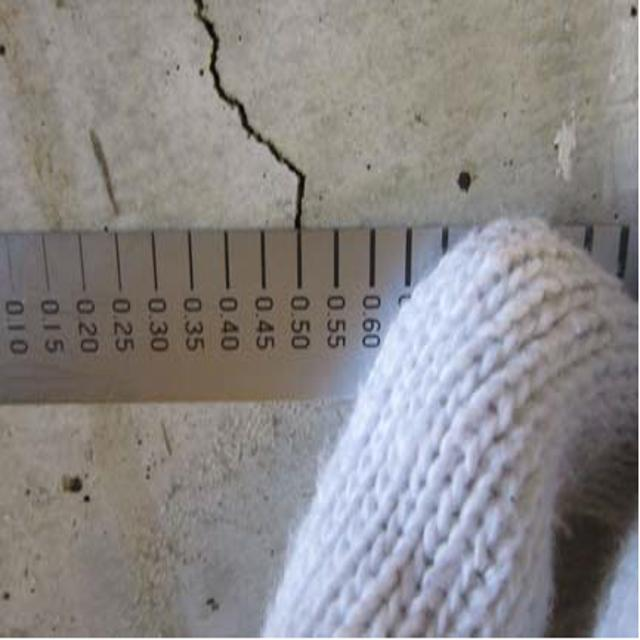crack: (187, 9, 316, 224)
